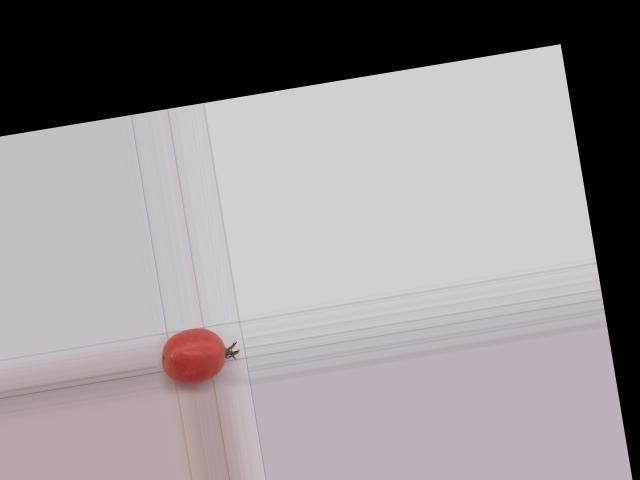tomato: (157, 323, 229, 387)
